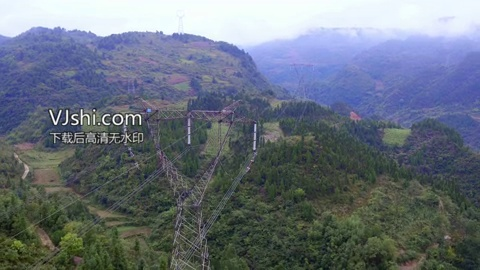tower_body: (134, 103, 244, 270)
tower_foot: (171, 237, 213, 270)
tower_head: (136, 105, 241, 207)
